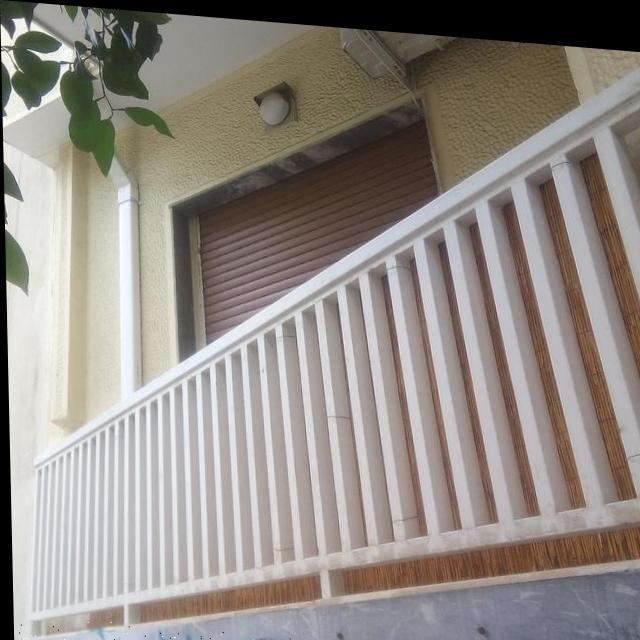-: (11, 614, 292, 640)
